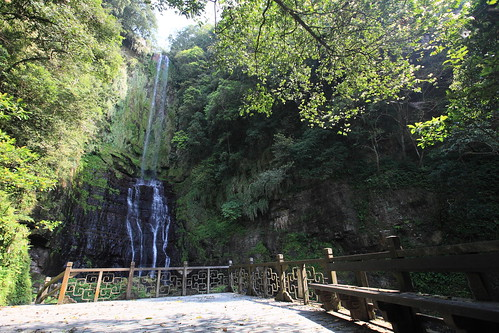wufengciWaterfall: (96, 43, 207, 265)
